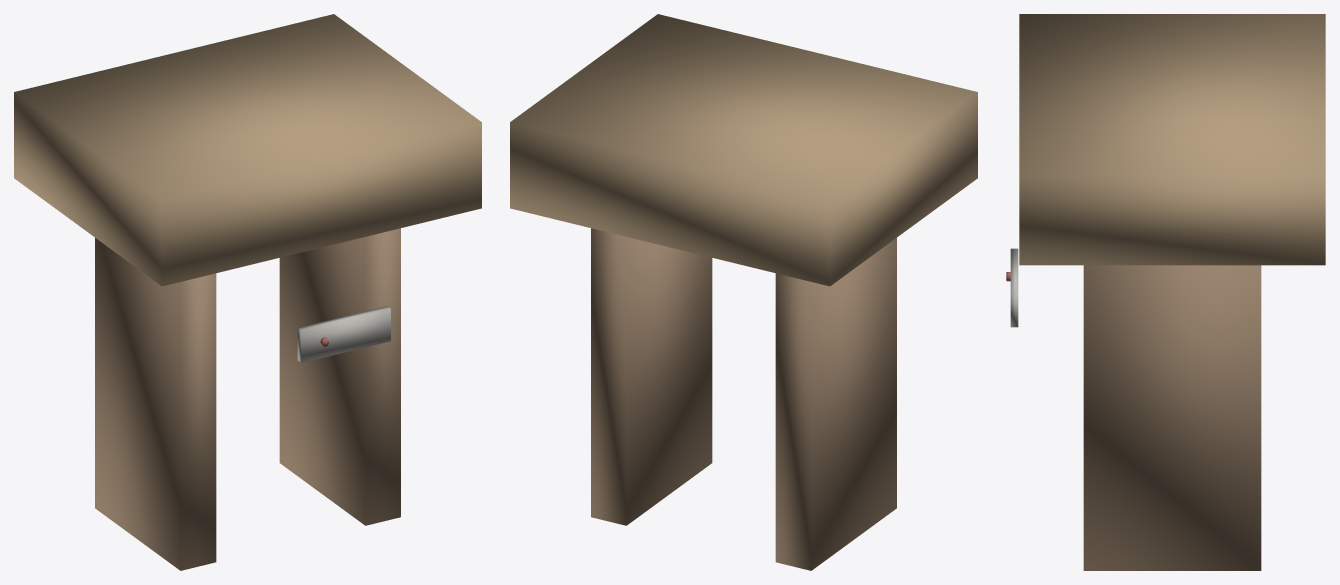
File: butcher_block__tall.glb
3 views of the same model, side by side, from view 1: azimuth 30°, elevation 25°; view 2: azimuth 150°, elevation 25°; view 3: azimuth 270°, elevation 25° (orthographic). The views are drawn at different scales.
Parts seen in each view (by area): view 1: world; view 2: world; view 3: world.
Boxes of the visible parts, left/top/right/bottom form: world: left=14, top=14, right=481, bottom=570; world: left=510, top=14, right=977, bottom=570; world: left=1006, top=14, right=1325, bottom=570.
Bounding box in the file's own units: 0.9 × 1.09 × 0.751.
